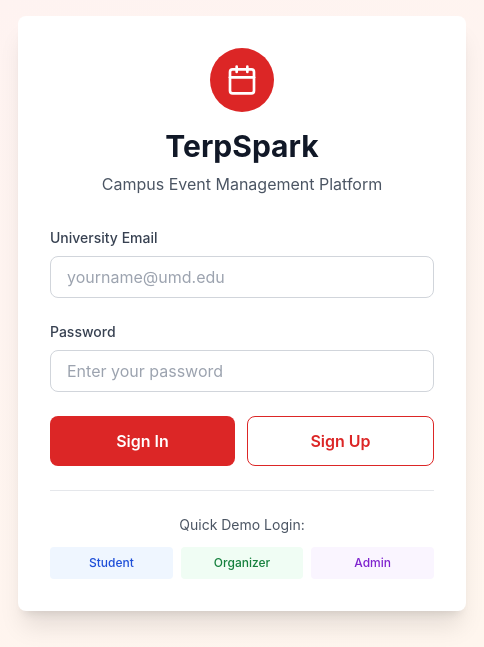
LoginPage › populates credentials for student quick login
Click the button "Student".
click(111, 562)  # box [50,546,173,578]
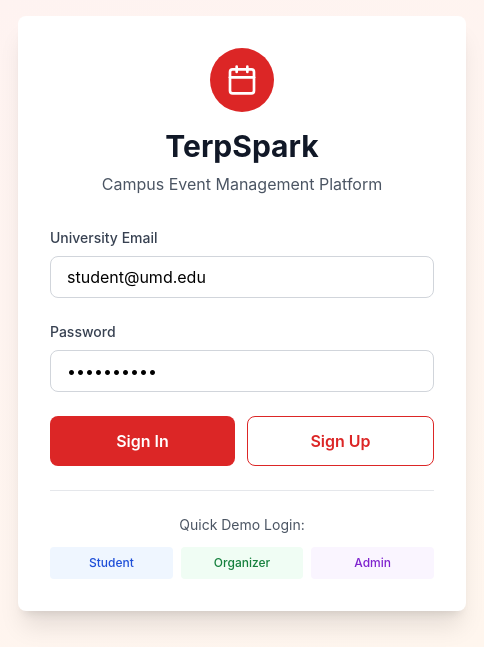
Expected: the field showing "student@umd.edu" is shown, [50,256,434,298]
Expected: the password field showing "student123" is shown, [50,350,434,392]
